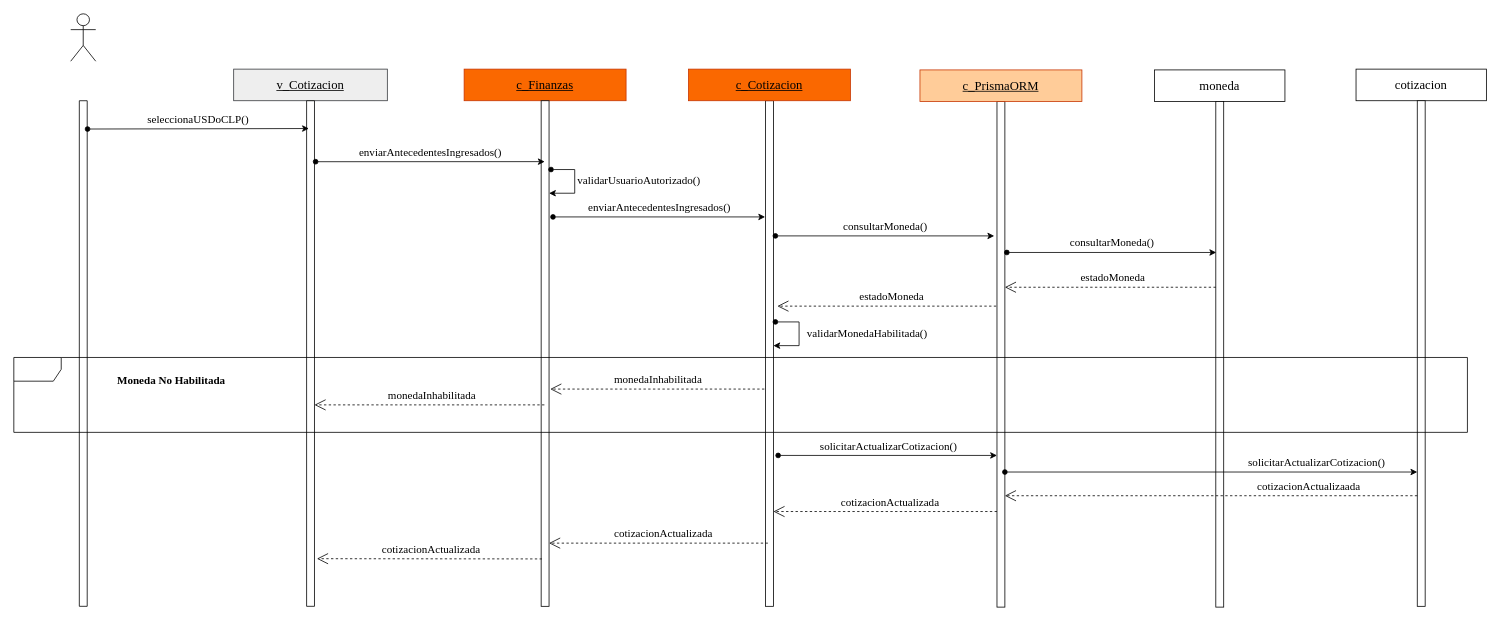
Image size: 1500x621. Some labels were removed from this diagram. The centre of each missing label's shape, as x and y in pixels:
"Exc1" belongs at (740,394).
"Usuario Autorizado Gerencia o Secretaria" belongs at (83,37).
